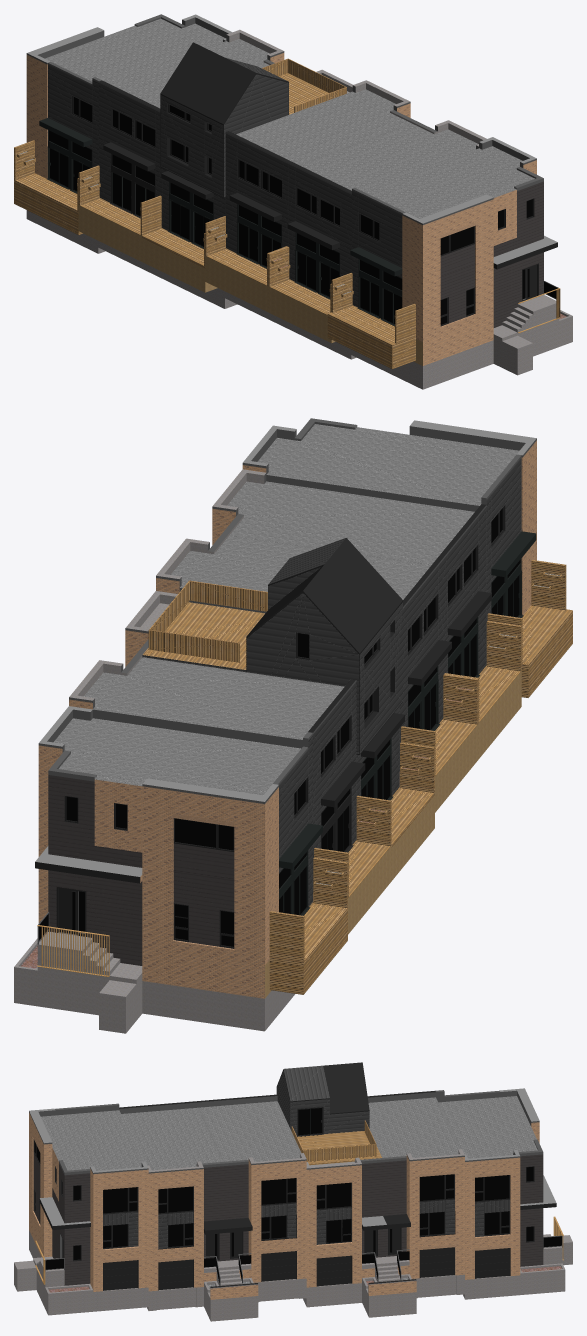
Rendered from Houses5.FBX.
3 renders of one model, top to bottom at view 1: azimuth 30°, elevation 25°; view 2: azimuth 150°, elevation 25°; view 3: azimuth 270°, elevation 25°, orthographic. The views are drawn at different scales.
Visible parts, largest first — view 1: Mesh42, Mesh03, Frame_2_11, Group_81_2, fen_2pi_06, fen_4pi_6p, Group867, Frame_1_1; view 2: Mesh42, Mesh03, Group_81_2, fen_2pi_06, Frame_2_11, Group867, porte_en05, Frame_1_1; view 3: Mesh42, Mesh03, fen_2pi_06, Mesh31, fen_4pi_6p, porte_en05, Group867, Garde_co03, Frame_2_11, Mesh22.
Part boxes in pixels (bbox=[...]): Mesh42: bbox=[14, 14, 486, 359]; Mesh03: bbox=[327, 137, 572, 389]; Frame_2_11: bbox=[47, 146, 339, 299]; Group_81_2: bbox=[14, 140, 331, 312]; fen_2pi_06: bbox=[71, 96, 339, 227]; fen_4pi_6p: bbox=[358, 198, 538, 326]; Group867: bbox=[262, 58, 346, 112]; Frame_1_1: bbox=[357, 276, 402, 326]; Mesh42: bbox=[14, 469, 521, 1033]; Mesh03: bbox=[242, 418, 572, 697]; Group_81_2: bbox=[269, 621, 521, 961]; fen_2pi_06: bbox=[64, 544, 478, 948]; Frame_2_11: bbox=[279, 631, 480, 915]; Group867: bbox=[148, 580, 267, 662]; porte_en05: bbox=[56, 887, 86, 936]; Frame_1_1: bbox=[491, 571, 523, 617]; Mesh42: bbox=[119, 1062, 572, 1321]; Mesh03: bbox=[14, 1103, 148, 1315]; fen_2pi_06: bbox=[158, 1166, 534, 1248]; Mesh31: bbox=[158, 1247, 510, 1290]; fen_4pi_6p: bbox=[33, 1139, 138, 1290]; porte_en05: bbox=[206, 1227, 401, 1259]; Group867: bbox=[291, 1120, 376, 1161]; Garde_co03: bbox=[204, 1235, 562, 1285]; Frame_2_11: bbox=[297, 1107, 323, 1136]; Mesh22: bbox=[328, 1219, 351, 1242].
Size of the model in its own units: 763 by 587 by 1539.
24 materials, 18 textured.
